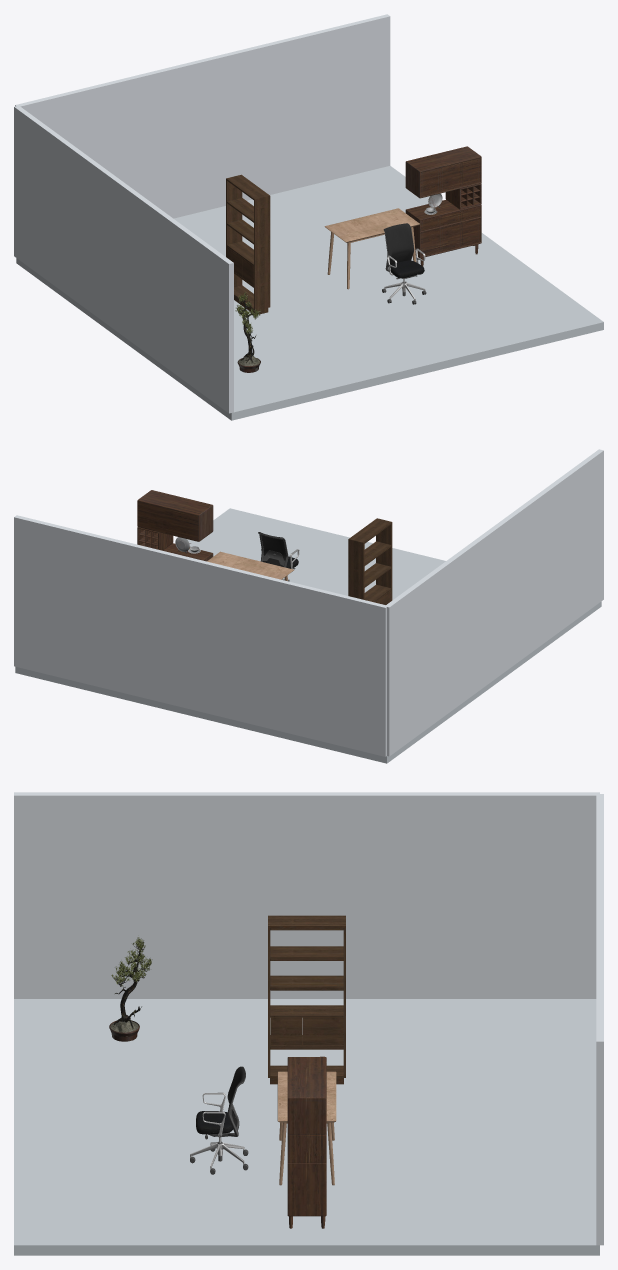
Rendered from stage3.glb.
3 renders of one model, top to bottom at view 1: azimuth 30°, elevation 25°; view 2: azimuth 150°, elevation 25°; view 3: azimuth 270°, elevation 25°, orthographic. The views are drawn at different scales.
Visible parts, largest first — view 1: Floor, wall_back, wall_left, raw_model.003, raw_model.002, raw_model, raw_model.001, raw_model.004; view 2: wall_back, wall_left, Floor, raw_model.003, raw_model.002, raw_model, raw_model.001; view 3: Floor, wall_left, raw_model.002, raw_model.003, wall_back, raw_model.001, raw_model.004, raw_model.
Boxes of the visible parts, bbox=[...] form: Floor: bbox=[16, 165, 603, 420]; wall_back: bbox=[15, 14, 390, 218]; wall_left: bbox=[14, 105, 233, 413]; raw_model.003: bbox=[405, 146, 481, 266]; raw_model.002: bbox=[226, 174, 270, 314]; raw_model: bbox=[324, 208, 419, 289]; raw_model.001: bbox=[382, 223, 426, 304]; raw_model.004: bbox=[235, 292, 260, 372]; wall_back: bbox=[14, 515, 387, 756]; wall_left: bbox=[386, 449, 603, 756]; Floor: bbox=[15, 508, 601, 763]; raw_model.003: bbox=[137, 490, 213, 561]; raw_model.002: bbox=[348, 518, 392, 604]; raw_model: bbox=[207, 551, 293, 581]; raw_model.001: bbox=[258, 532, 299, 581]; Floor: bbox=[14, 999, 599, 1255]; wall_left: bbox=[14, 792, 599, 998]; raw_model.002: bbox=[268, 915, 345, 1084]; raw_model.003: bbox=[287, 1056, 326, 1228]; wall_back: bbox=[596, 794, 603, 1245]; raw_model.001: bbox=[190, 1066, 248, 1174]; raw_model.004: bbox=[109, 937, 152, 1041]; raw_model: bbox=[277, 1071, 336, 1185].
Size of the model in its own units: 6.04 by 2.42 by 6.04.
7 materials, 5 textured.
